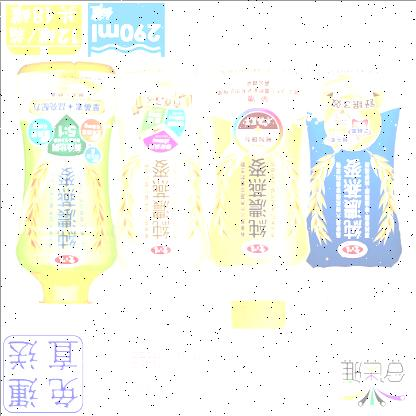Plastic Bottle: (14, 61, 116, 331), (208, 60, 309, 328), (306, 61, 402, 330), (115, 61, 210, 331)
